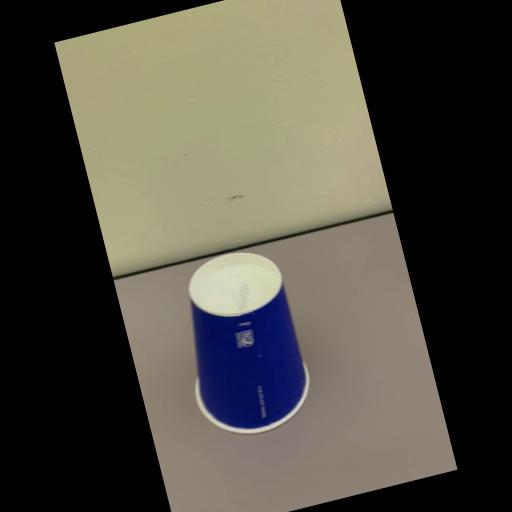lp_paper_cup: (160, 241, 322, 445)
